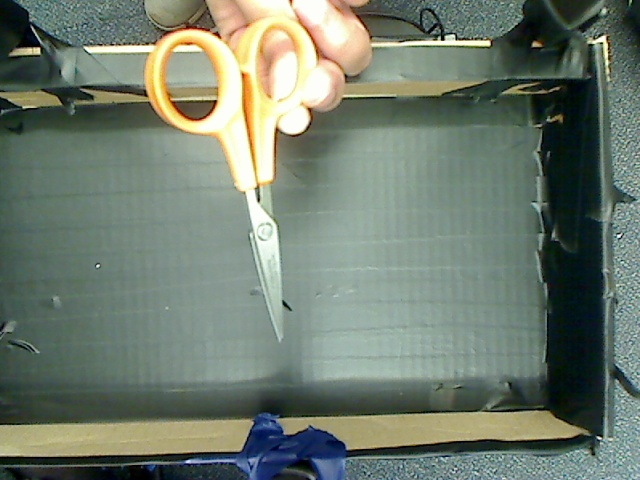scissors: (147, 5, 321, 362)
